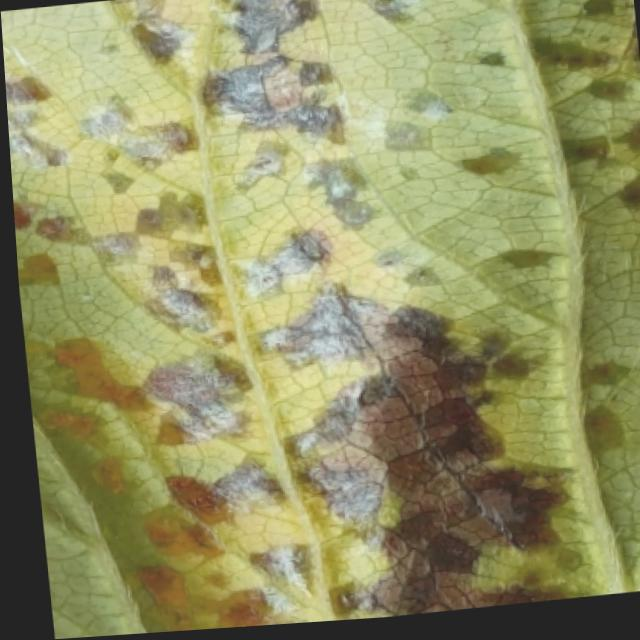Angular Leafspot: (1, 0, 640, 635)
